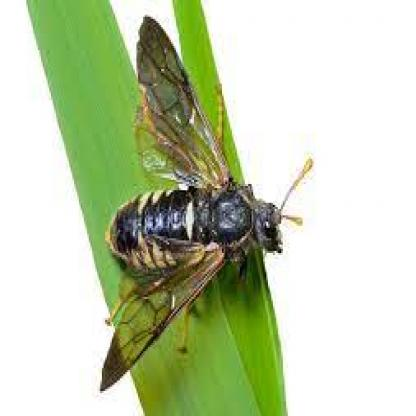sawfly: (97, 10, 314, 398)
